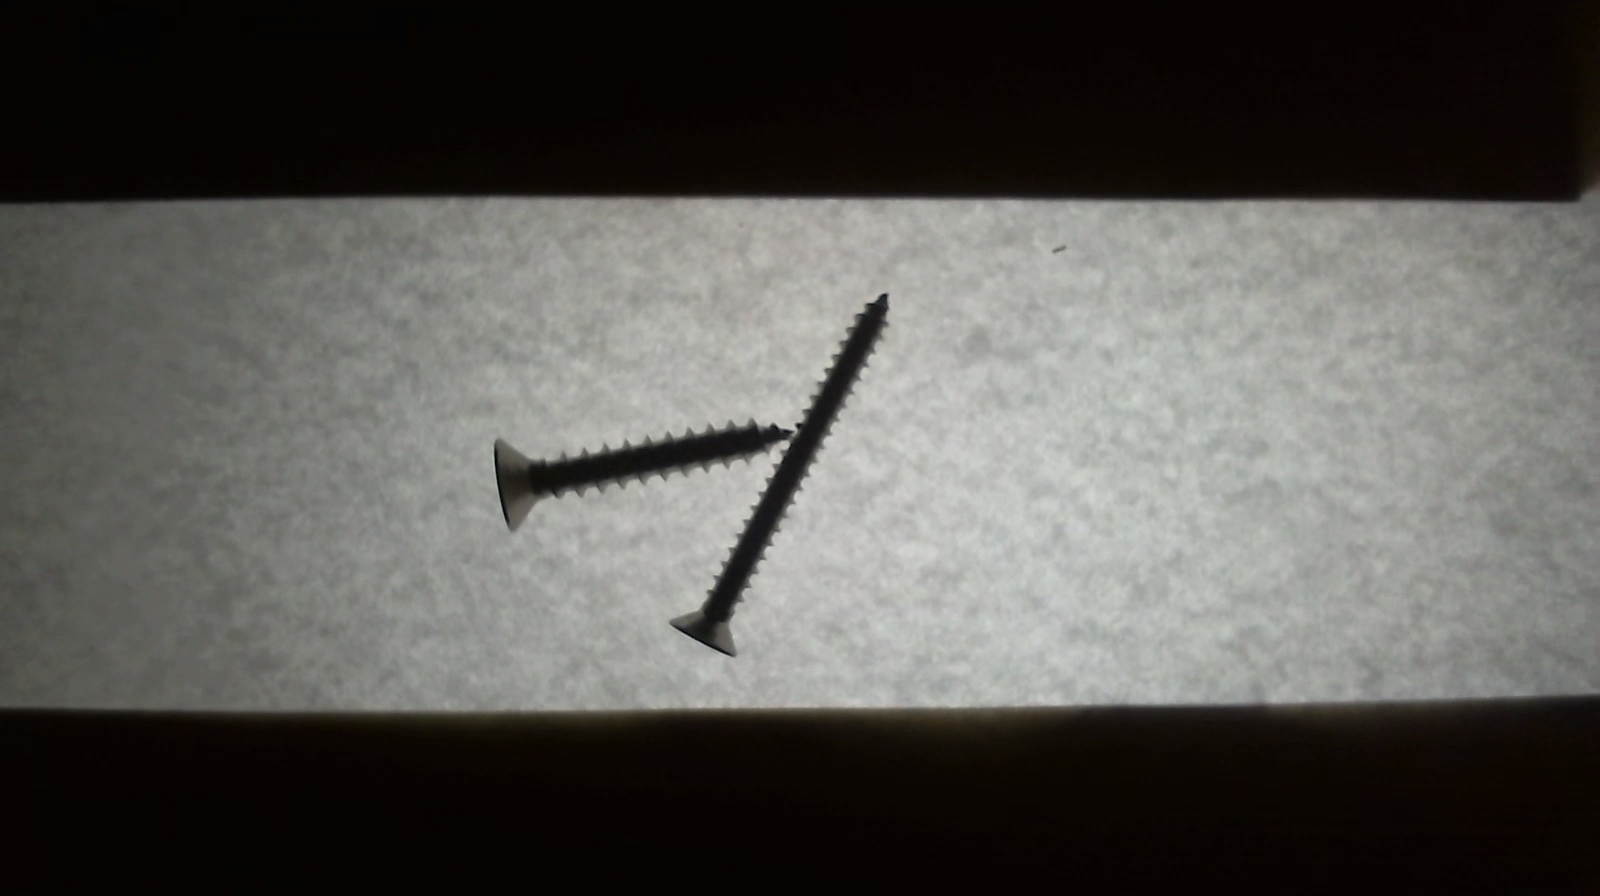S001: (481, 412, 804, 537)
S002: (658, 278, 908, 670)
